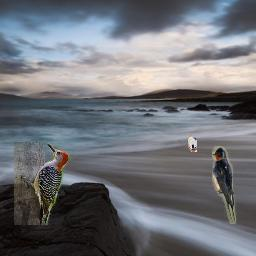Sparrow: (188, 133, 197, 152)
Swallow: (212, 146, 237, 224)
Woodpecker: (14, 142, 72, 225)
